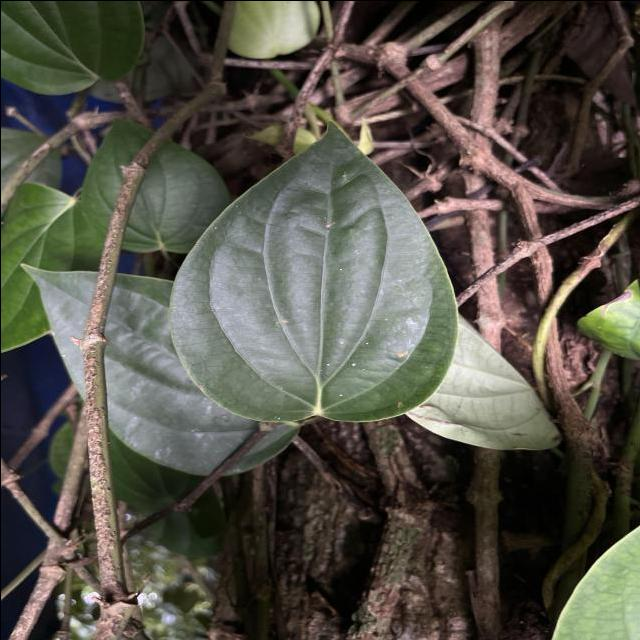Piper nigrum: (165, 118, 462, 425)
